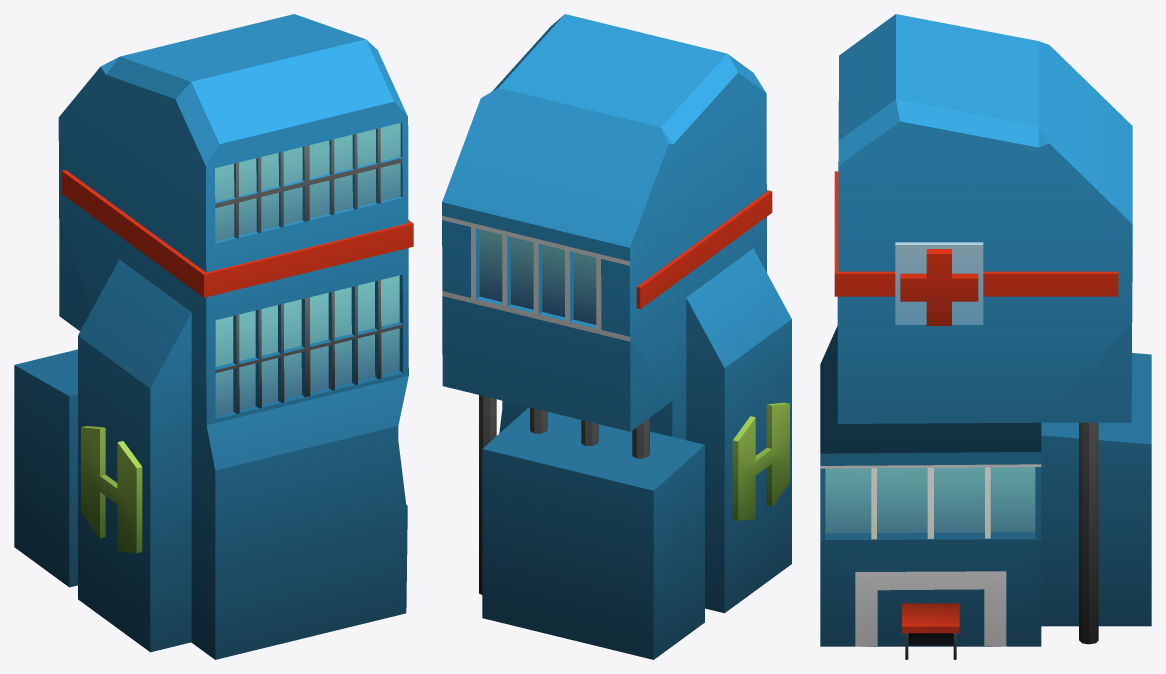
Rendered from HospitalBuilding.fbx.
3 renders of one model, left to right at view 1: azimuth 30°, elevation 25°; view 2: azimuth 150°, elevation 25°; view 3: azimuth 270°, elevation 25°, orthographic. The views are drawn at different scales.
Parts seen in each view (by area): view 1: Cube; view 2: Cube; view 3: Cube.
Boxes of the visible parts, x1=… form: Cube: x1=14, y1=14, x2=413, y2=659; Cube: x1=442, y1=14, x2=791, y2=659; Cube: x1=820, y1=14, x2=1151, y2=659.
Size of the model in its own units: 2447 by 4763 by 2611.
Materials: 2 (2 with a texture image).
